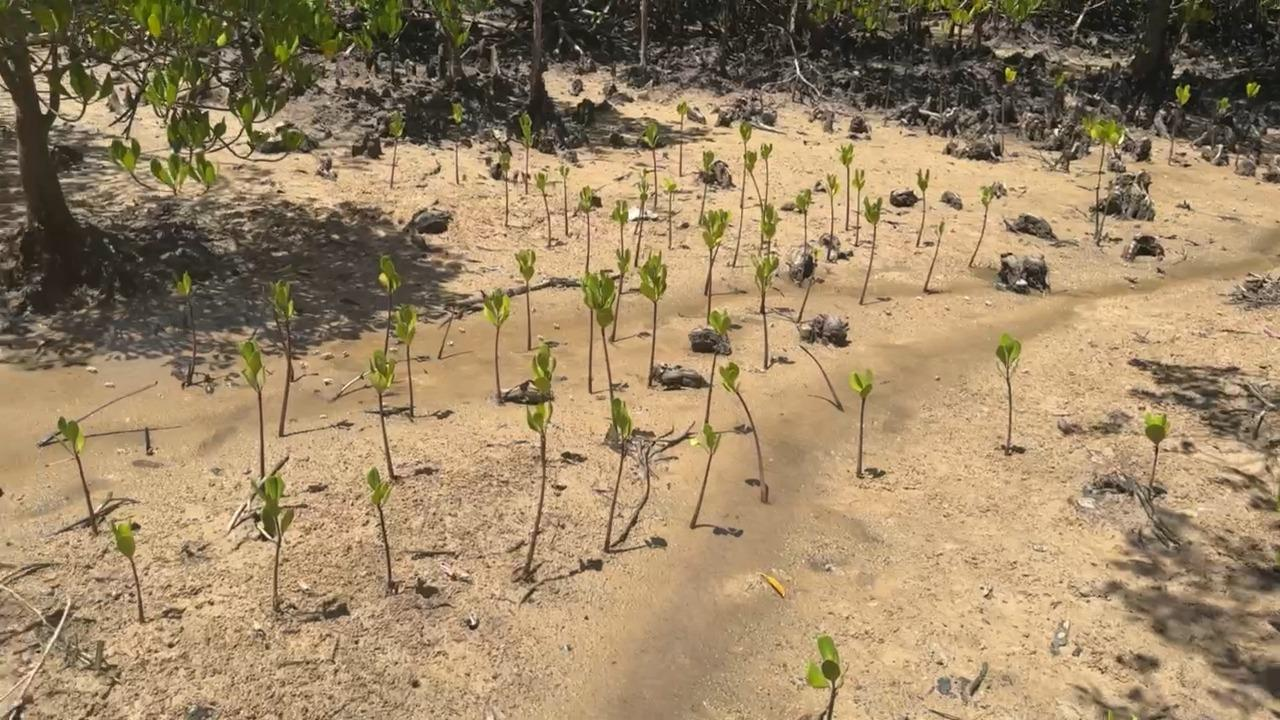Tree: (524, 341, 557, 575), (718, 362, 767, 502), (247, 473, 293, 609), (58, 416, 97, 531), (1084, 115, 1122, 232), (604, 398, 633, 549), (237, 337, 267, 480), (705, 308, 742, 423), (639, 248, 667, 384), (750, 246, 780, 368), (368, 347, 396, 477), (690, 420, 722, 528), (481, 287, 512, 398), (111, 517, 143, 622), (589, 272, 616, 396), (170, 270, 198, 384), (367, 467, 394, 585), (744, 142, 773, 249), (274, 281, 294, 436), (805, 634, 841, 720), (390, 303, 416, 415), (997, 333, 1022, 448), (799, 345, 843, 410), (732, 124, 752, 264), (700, 208, 724, 323), (578, 272, 600, 394), (268, 281, 294, 382), (860, 196, 883, 305), (851, 368, 873, 475), (378, 252, 401, 354), (704, 209, 731, 295), (514, 249, 537, 349), (968, 185, 994, 266), (610, 249, 632, 341), (1144, 414, 1171, 485), (817, 172, 839, 259), (1168, 83, 1191, 166), (1232, 82, 1260, 148), (642, 122, 664, 205), (632, 180, 651, 267), (923, 220, 946, 291), (1001, 67, 1018, 151), (534, 172, 553, 245), (1096, 178, 1116, 244), (579, 185, 593, 272), (797, 188, 814, 258), (851, 169, 866, 245), (840, 143, 853, 230), (391, 112, 406, 187), (520, 110, 533, 193), (761, 203, 781, 256), (1211, 97, 1231, 150), (452, 102, 465, 183), (438, 303, 456, 359), (663, 176, 677, 248), (700, 149, 713, 225), (634, 168, 649, 233), (612, 200, 629, 257), (917, 168, 929, 247), (676, 101, 688, 176), (798, 275, 815, 322), (559, 166, 570, 235), (500, 152, 510, 226)
